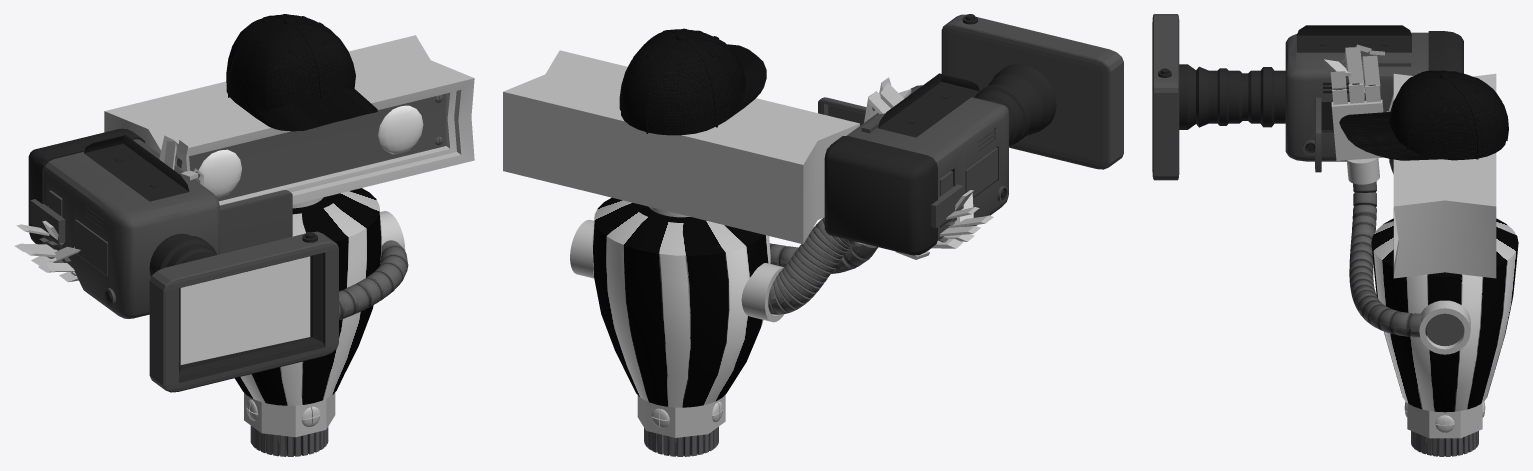
The model's file is cameraman.fbx.
3 views of the same model, side by side, from view 1: azimuth 30°, elevation 25°; view 2: azimuth 150°, elevation 25°; view 3: azimuth 270°, elevation 25° (orthographic). The views are drawn at different scales.
Parts seen in each view (by area): view 1: Camera, Head, Cap, Torso, Cylinder.002, Base, Eye L, Thruster, Eye R, Armplug L; view 2: Camera, Head, Torso, Cap, Cylinder.001, Base, Armplug R, Thruster, Cylinder.002, Armplug L; view 3: Camera, Torso, Head, Cap, Cylinder.002, Armplug L, Base, Hand R.001, Thruster, Cylinder.003, Cube.026, Cube.021.
Boxes of the visible parts, box(x1,y1,x2,y2) form: Camera: box(28, 128, 338, 392); Head: box(104, 35, 474, 205); Cap: box(226, 14, 377, 131); Torso: box(235, 188, 381, 405); Cylinder.002: box(339, 240, 408, 319); Base: box(244, 392, 335, 437); Eye L: box(378, 105, 423, 154); Thruster: box(250, 425, 328, 456); Eye R: box(198, 149, 241, 197); Armplug L: box(380, 211, 405, 250); Camera: box(818, 14, 1123, 255); Head: box(503, 50, 859, 244); Torso: box(592, 197, 770, 407); Cap: box(619, 29, 766, 135); Cylinder.001: box(768, 217, 862, 314); Base: box(637, 395, 725, 437); Armplug R: box(741, 263, 784, 322); Thruster: box(644, 426, 718, 456); Cylinder.002: box(769, 243, 878, 273); Armplug L: box(570, 219, 594, 278); Camera: box(1152, 14, 1463, 180); Torso: box(1371, 218, 1518, 412); Head: box(1393, 73, 1496, 278); Cap: box(1339, 70, 1508, 160); Cylinder.002: box(1349, 181, 1426, 337); Armplug L: box(1419, 300, 1470, 354); Base: box(1407, 403, 1482, 438); Hand R.001: box(1331, 99, 1383, 160); Thruster: box(1411, 431, 1478, 456); Cylinder.003: box(1346, 158, 1379, 184); Cube.026: box(1344, 47, 1365, 98); Cube.021: box(1362, 55, 1380, 91).
Size of the model in its own units: 405 by 364 by 328.
